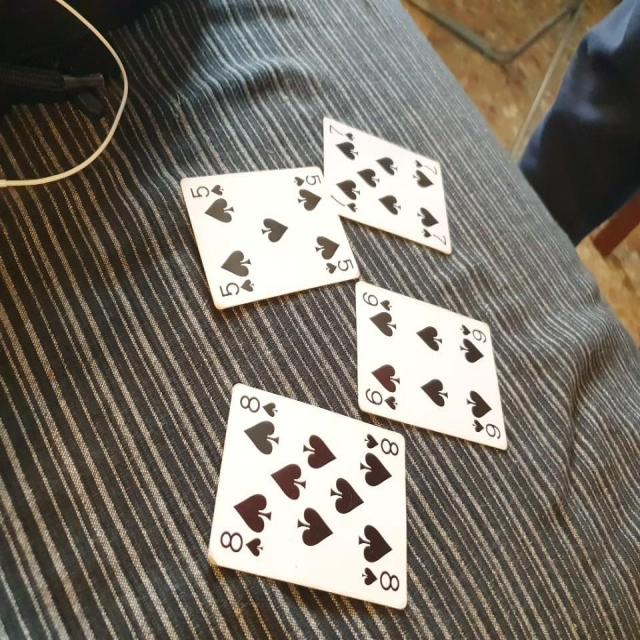5 Spades: (173, 159, 367, 305)
6 Spades: (343, 275, 514, 455)
7 Spades: (319, 108, 463, 266)
8 Spades: (198, 383, 420, 614)
